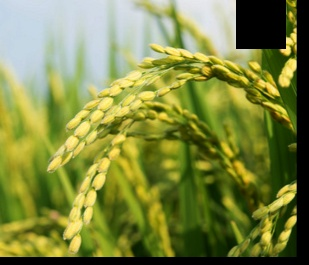rice: (41, 30, 288, 252)
